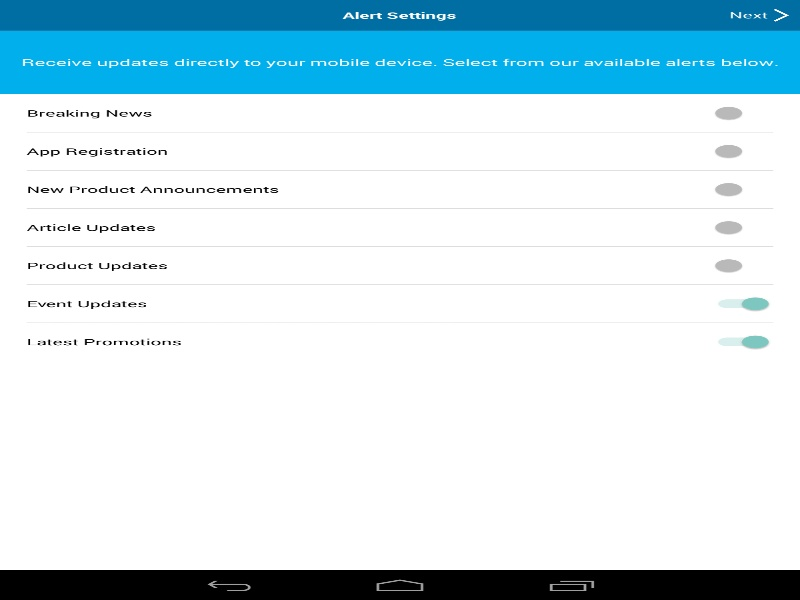Input: (40, 123, 760, 148), (40, 149, 760, 174), (40, 175, 760, 200), (40, 200, 760, 225), (40, 226, 760, 251), (40, 251, 760, 276), (40, 277, 760, 302), (40, 303, 760, 328), (40, 328, 760, 353), (40, 354, 760, 379)
